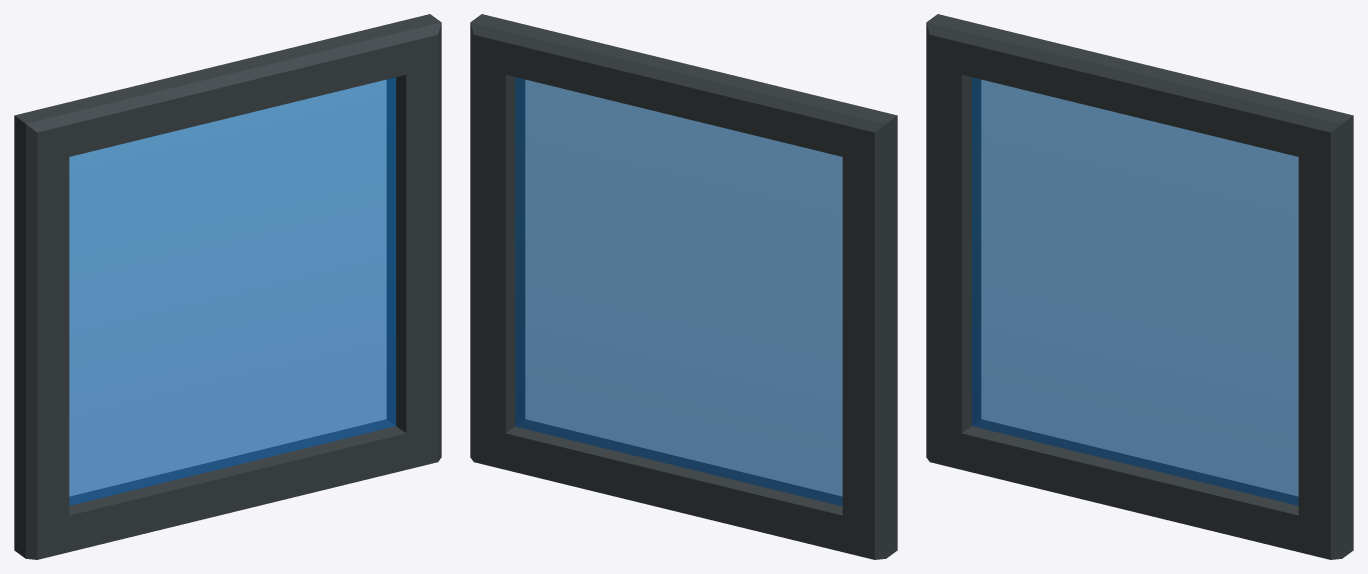
The model's file is Wall Glass Blue.fbx.
3 renders of one model, left to right at view 1: azimuth 30°, elevation 25°; view 2: azimuth 150°, elevation 25°; view 3: azimuth 330°, elevation 25°, orthographic.
Visible parts, largest first — view 1: Wall Glass Blue; view 2: Wall Glass Blue; view 3: Wall Glass Blue.
Boxes of the visible parts, box(x1,y1,x2,y2) form: Wall Glass Blue: box(14, 14, 441, 559); Wall Glass Blue: box(470, 14, 897, 559); Wall Glass Blue: box(926, 14, 1353, 559).
Size of the model in its own units: 400 by 400 by 32.41.
